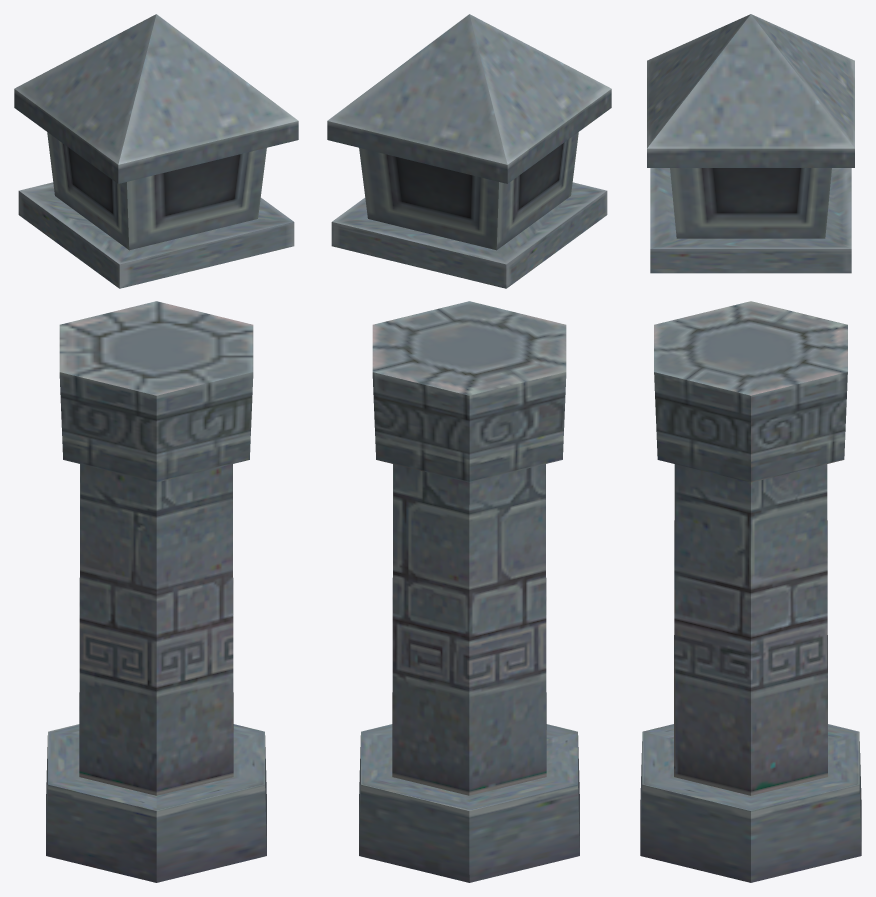
File: FB_boss_dibiao_zhuzi.FBX
3 views of the same model, side by side, from view 1: azimuth 30°, elevation 25°; view 2: azimuth 150°, elevation 25°; view 3: azimuth 270°, elevation 25° (orthographic).
Visible parts, largest first — view 1: Object07, Object15; view 2: Object07, Object15; view 3: Object07, Object15.
Part boxes in pixels (left/top/right/bottom): Object07: left=46, top=301, right=266, bottom=882; Object15: left=14, top=14, right=298, bottom=288; Object07: left=359, top=301, right=579, bottom=882; Object15: left=327, top=14, right=611, bottom=288; Object07: left=640, top=301, right=861, bottom=882; Object15: left=647, top=14, right=854, bottom=273.
Bounding box in the file's own units: 2.27 × 7.99 × 1.97.
